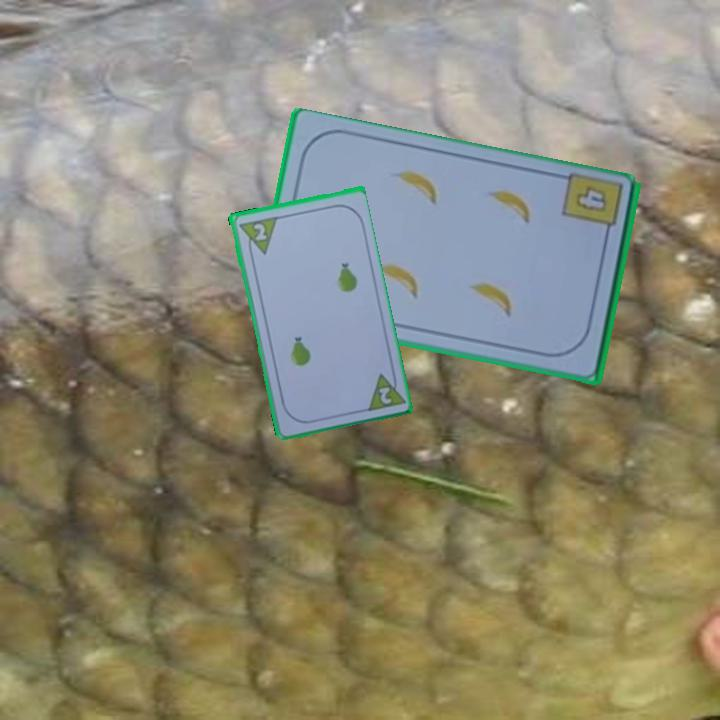2p: (362, 366, 406, 414), (235, 213, 279, 259)
4b: (571, 183, 610, 216)
